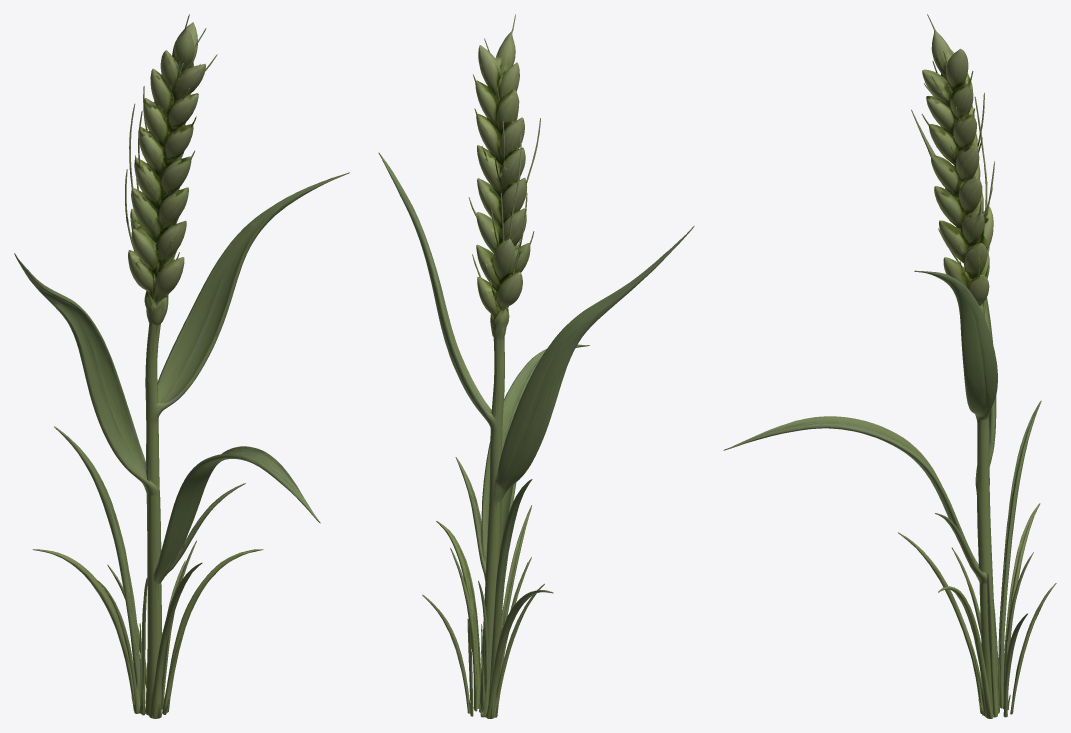
Rendered from PredictionWheat.glb.
The picture shows the model from 3 angles, left to right: view 1: azimuth 30°, elevation 25°; view 2: azimuth 150°, elevation 25°; view 3: azimuth 270°, elevation 25°; orthographic projection. The views are drawn at different scales.
Parts seen in each view (by area): view 1: Head, Stemleaf1, Stemleaf3, Stem, Stemleaf2, Groundleaf7, Groundleaf5, Groundleaf1, Groundleaf6; view 2: Head, Stemleaf3, Groundleaf7, Stem, Stemleaf2, Stemleaf1, Groundleaf5, Groundleaf1, Groundleaf4, Groundleaf3; view 3: Head, Stemleaf1, Stem, Stemleaf2, Groundleaf7, Groundleaf5, Groundleaf1, Stemleaf3, Groundleaf4, Groundleaf2, Groundleaf3.
Boxes of the visible parts, x1=… form: Head: x1=125, y1=14, x2=217, y2=325; Stemleaf1: x1=156, y1=172, x2=349, y2=418; Stemleaf3: x1=14, y1=253, x2=158, y2=495; Stem: x1=143, y1=323, x2=166, y2=715; Stemleaf2: x1=154, y1=446, x2=320, y2=583; Groundleaf7: x1=32, y1=426, x2=141, y2=713; Groundleaf5: x1=162, y1=549, x2=263, y2=714; Groundleaf1: x1=149, y1=562, x2=202, y2=718; Groundleaf6: x1=139, y1=577, x2=147, y2=715; Head: x1=468, y1=14, x2=540, y2=340; Stemleaf3: x1=494, y1=225, x2=694, y2=502; Groundleaf7: x1=478, y1=479, x2=553, y2=718; Stem: x1=479, y1=337, x2=504, y2=712; Stemleaf2: x1=455, y1=344, x2=589, y2=580; Stemleaf1: x1=378, y1=152, x2=493, y2=428; Groundleaf5: x1=436, y1=521, x2=482, y2=708; Groundleaf1: x1=500, y1=505, x2=532, y2=635; Groundleaf4: x1=450, y1=548, x2=477, y2=711; Groundleaf3: x1=422, y1=594, x2=470, y2=713; Head: x1=921, y1=14, x2=994, y2=316; Stemleaf1: x1=914, y1=270, x2=997, y2=420; Stem: x1=975, y1=414, x2=999, y2=714; Stemleaf2: x1=723, y1=416, x2=987, y2=583; Groundleaf7: x1=993, y1=400, x2=1041, y2=709; Groundleaf5: x1=938, y1=586, x2=993, y2=718; Groundleaf1: x1=898, y1=532, x2=982, y2=713; Stemleaf3: x1=911, y1=109, x2=996, y2=494; Groundleaf4: x1=987, y1=573, x2=997, y2=717; Groundleaf2: x1=1010, y1=583, x2=1056, y2=714; Groundleaf3: x1=1003, y1=613, x2=1027, y2=717.
Size of the model in its own units: 0.5638 by 1.16 by 0.4986.
Materials: 1 (1 with a texture image).
